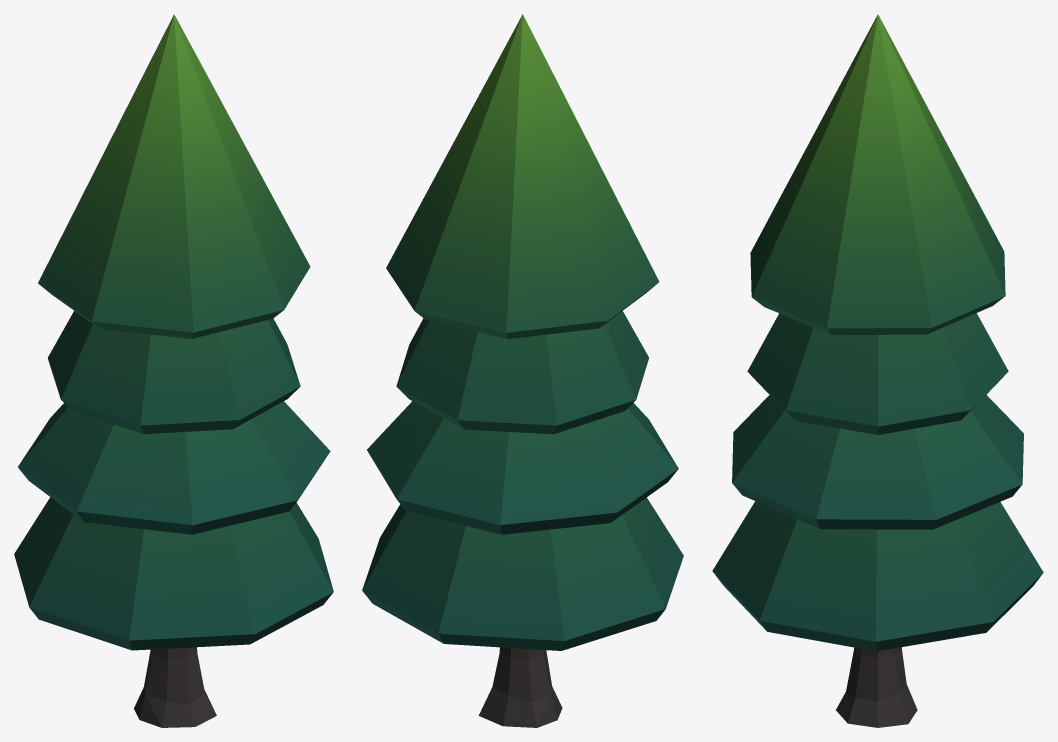
File: PineTree_B.fbx
3 views of the same model, side by side, from view 1: azimuth 30°, elevation 25°; view 2: azimuth 150°, elevation 25°; view 3: azimuth 270°, elevation 25° (orthographic).
Parts seen in each view (by area): view 1: PineTree_B; view 2: PineTree_B; view 3: PineTree_B.
Boxes of the visible parts, box(x1,y1,x2,y2) form: PineTree_B: box(14, 14, 333, 727); PineTree_B: box(362, 14, 683, 727); PineTree_B: box(712, 14, 1043, 727).
Bounding box in the file's own units: 246 × 571 × 246.
